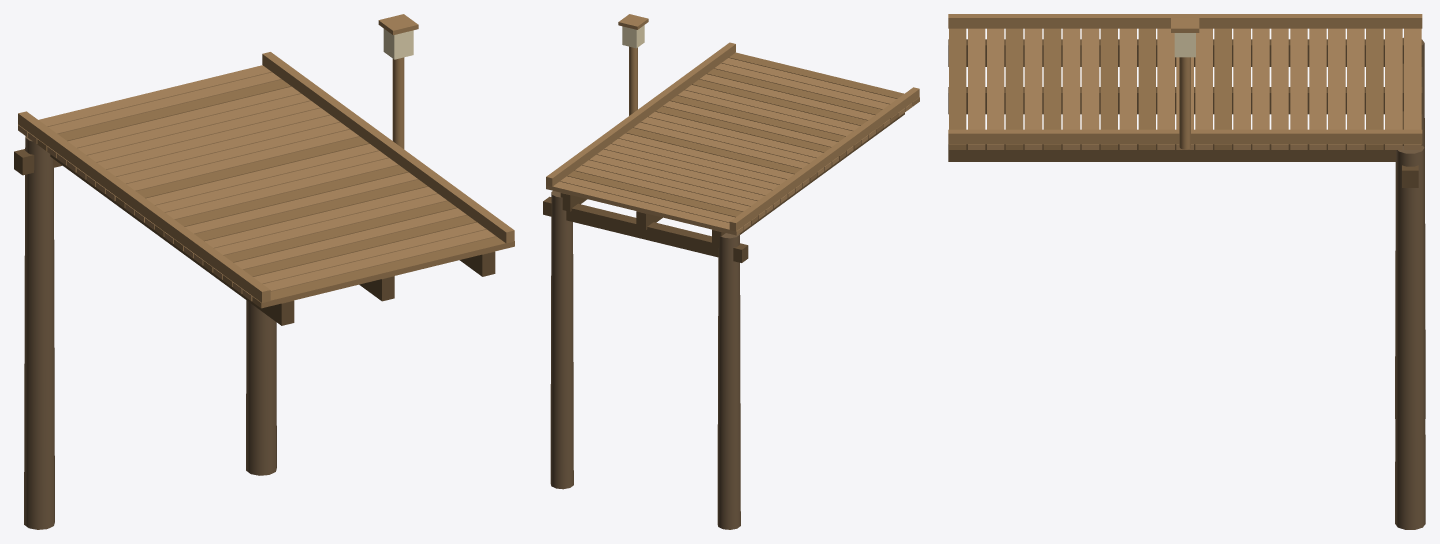
The model's file is jetty-lamp.glb.
The picture shows the model from 3 angles, left to right: view 1: azimuth 30°, elevation 25°; view 2: azimuth 150°, elevation 25°; view 3: azimuth 270°, elevation 25°; orthographic projection. The views are drawn at different scales.
Visible parts, largest first — view 1: stilt_28, stilt_30, post_29, post_31, plank2_24, plank_23, plank2_2, plank_6, plank_1, plank_5, plank2_10, plank2_14 (+21 smaller); view 2: stilt_28, stilt_30, beam_32, post_29, post_31, plank_0, plank_13, plank_3, plank_6, plank2_10, plank_11, plank2_19 (+20 smaller); view 3: stilt_30, post_31, post_29, beam_27, plank_17, plank_18, plank2_19, plank_20, plank2_21, plank_0, plank_1, plank2_2 (+21 smaller).
Boxes of the visible parts, x1=… form: stilt_28: x1=24, y1=136, x2=54, y2=529; stilt_30: x1=246, y1=300, x2=276, y2=475; post_29: x1=18, y1=111, x2=270, y2=302; post_31: x1=262, y1=52, x2=514, y2=243; plank2_24: x1=252, y1=236, x2=514, y2=308; plank_23: x1=242, y1=229, x2=496, y2=301; plank2_2: x1=37, y1=79, x2=291, y2=151; plank_6: x1=76, y1=108, x2=330, y2=179; plank_1: x1=27, y1=72, x2=281, y2=143; plank_5: x1=66, y1=101, x2=320, y2=172; plank2_10: x1=115, y1=136, x2=369, y2=208; plank2_14: x1=154, y1=165, x2=408, y2=236; stilt_28: x1=717, y1=233, x2=740, y2=529; stilt_30: x1=550, y1=191, x2=573, y2=489; beam_32: x1=543, y1=196, x2=748, y2=262; post_29: x1=729, y1=87, x2=919, y2=231; post_31: x1=546, y1=42, x2=735, y2=186; plank_0: x1=546, y1=181, x2=743, y2=235; plank_13: x1=648, y1=111, x2=838, y2=165; plank_3: x1=574, y1=165, x2=765, y2=219; plank_6: x1=596, y1=149, x2=787, y2=203; plank2_10: x1=626, y1=128, x2=816, y2=181; plank_11: x1=633, y1=122, x2=824, y2=176; plank2_19: x1=692, y1=79, x2=883, y2=133; stilt_30: x1=1395, y1=145, x2=1425, y2=529; post_31: x1=948, y1=129, x2=1422, y2=144; post_29: x1=948, y1=14, x2=1422, y2=28; beam_27: x1=948, y1=144, x2=1422, y2=161; plank_17: x1=1081, y1=28, x2=1099, y2=149; plank_18: x1=1062, y1=28, x2=1080, y2=149; plank2_19: x1=1043, y1=28, x2=1061, y2=149; plank_20: x1=1024, y1=28, x2=1042, y2=149; plank2_21: x1=1005, y1=28, x2=1023, y2=149; plank_0: x1=1404, y1=28, x2=1421, y2=149; plank_1: x1=1385, y1=28, x2=1402, y2=149; plank2_2: x1=1366, y1=28, x2=1383, y2=149.
Bounding box in the file's own units: 2.62 × 4.76 × 4.03.
